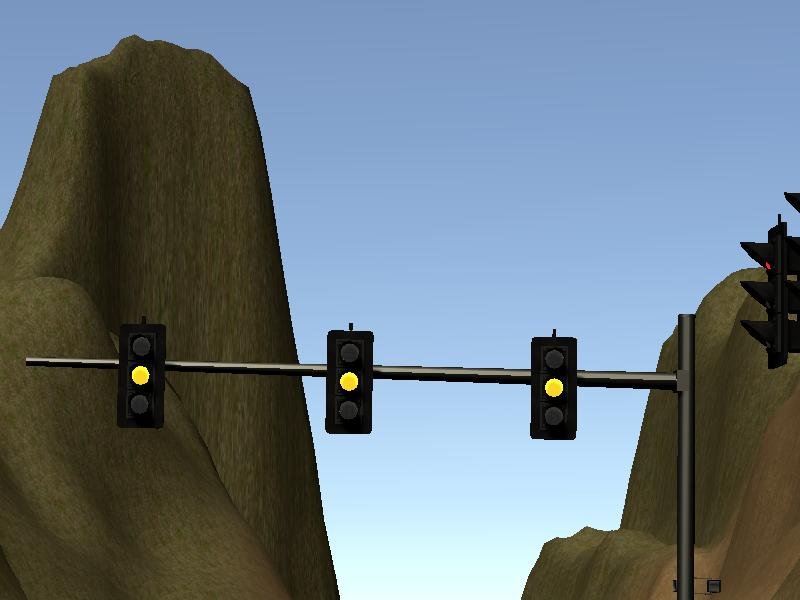Yellow: (325, 330, 373, 433), (531, 337, 578, 439), (118, 324, 164, 425)
